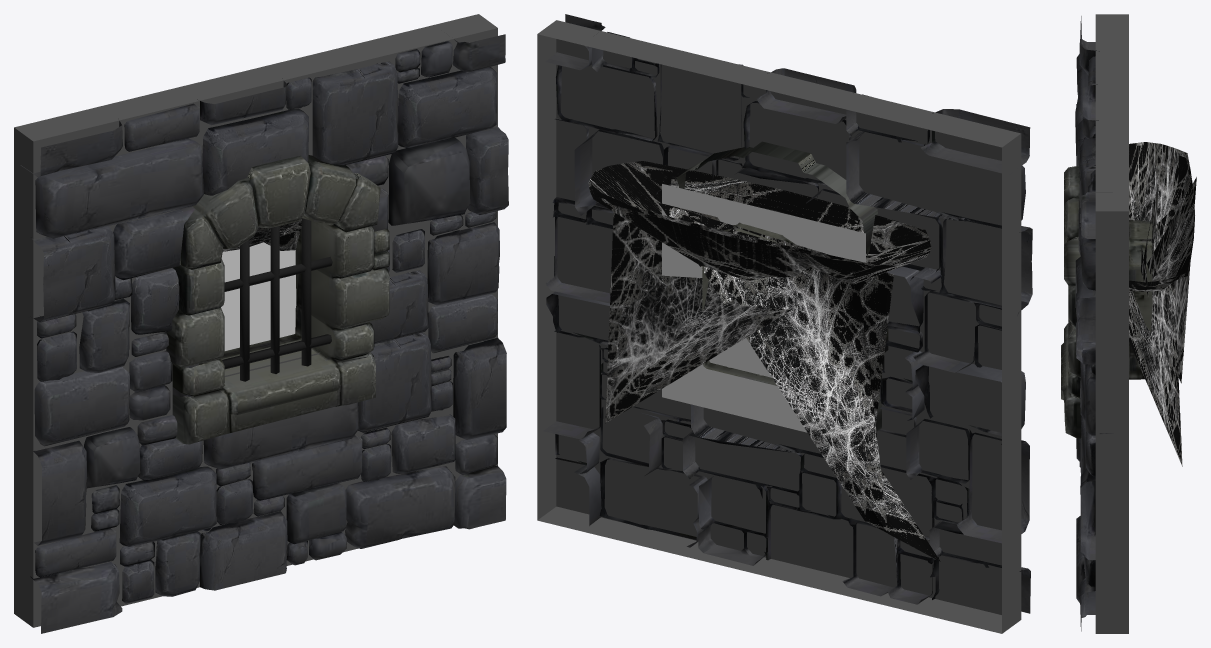
The model's file is Wall_04_BarredWindow.fbx.
The picture shows the model from 3 angles, left to right: view 1: azimuth 30°, elevation 25°; view 2: azimuth 150°, elevation 25°; view 3: azimuth 270°, elevation 25°; orthographic projection. The views are drawn at different scales.
Visible parts, largest first — view 1: Wall_BarredWindow; view 2: Wall_BarredWindow; view 3: Wall_BarredWindow.
Boxes of the visible parts, box(x1,y1,x2,y2) form: Wall_BarredWindow: box(14, 14, 508, 633); Wall_BarredWindow: box(537, 14, 1032, 633); Wall_BarredWindow: box(1061, 14, 1196, 633).
Bounding box in the file's own units: 302 × 300 × 87.35.
8 materials, 5 textured.
